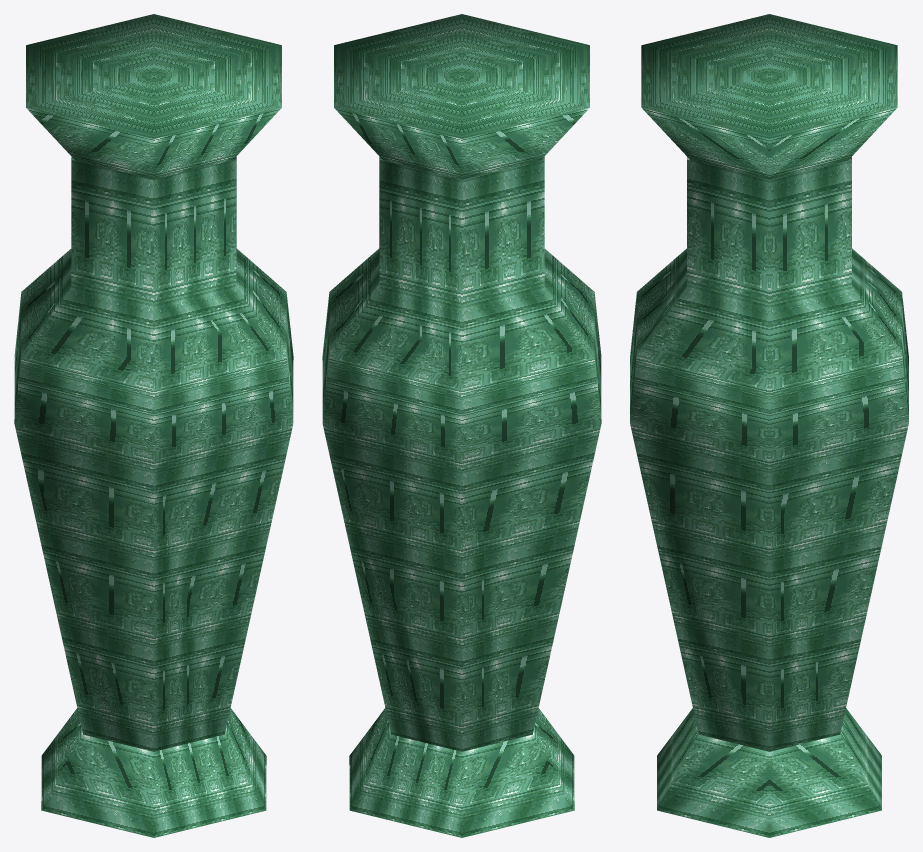
3 views of the same model, side by side, from view 1: azimuth 30°, elevation 25°; view 2: azimuth 150°, elevation 25°; view 3: azimuth 270°, elevation 25° (orthographic).
Parts seen in each view (by area): view 1: 3367kg_sh2_08; view 2: 3367kg_sh2_08; view 3: 3367kg_sh2_08.
Boxes of the visible parts, x1,y1,x2,y2 form: 3367kg_sh2_08: (14, 14, 293, 837); 3367kg_sh2_08: (322, 14, 601, 837); 3367kg_sh2_08: (630, 14, 908, 837).
Size of the model in its own units: 0.4644 by 1.12 by 0.4019.
1 material, 1 textured.
